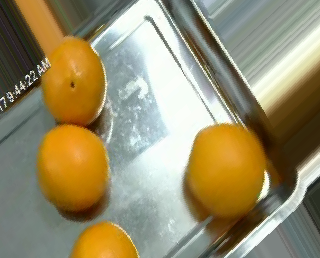Orange: (185, 124, 267, 218), (36, 124, 110, 210), (40, 35, 106, 125)
